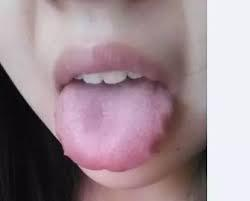baitaishe: (55, 84, 174, 173)
chihenshe: (147, 111, 175, 158)
pangdashe: (55, 83, 174, 172)
